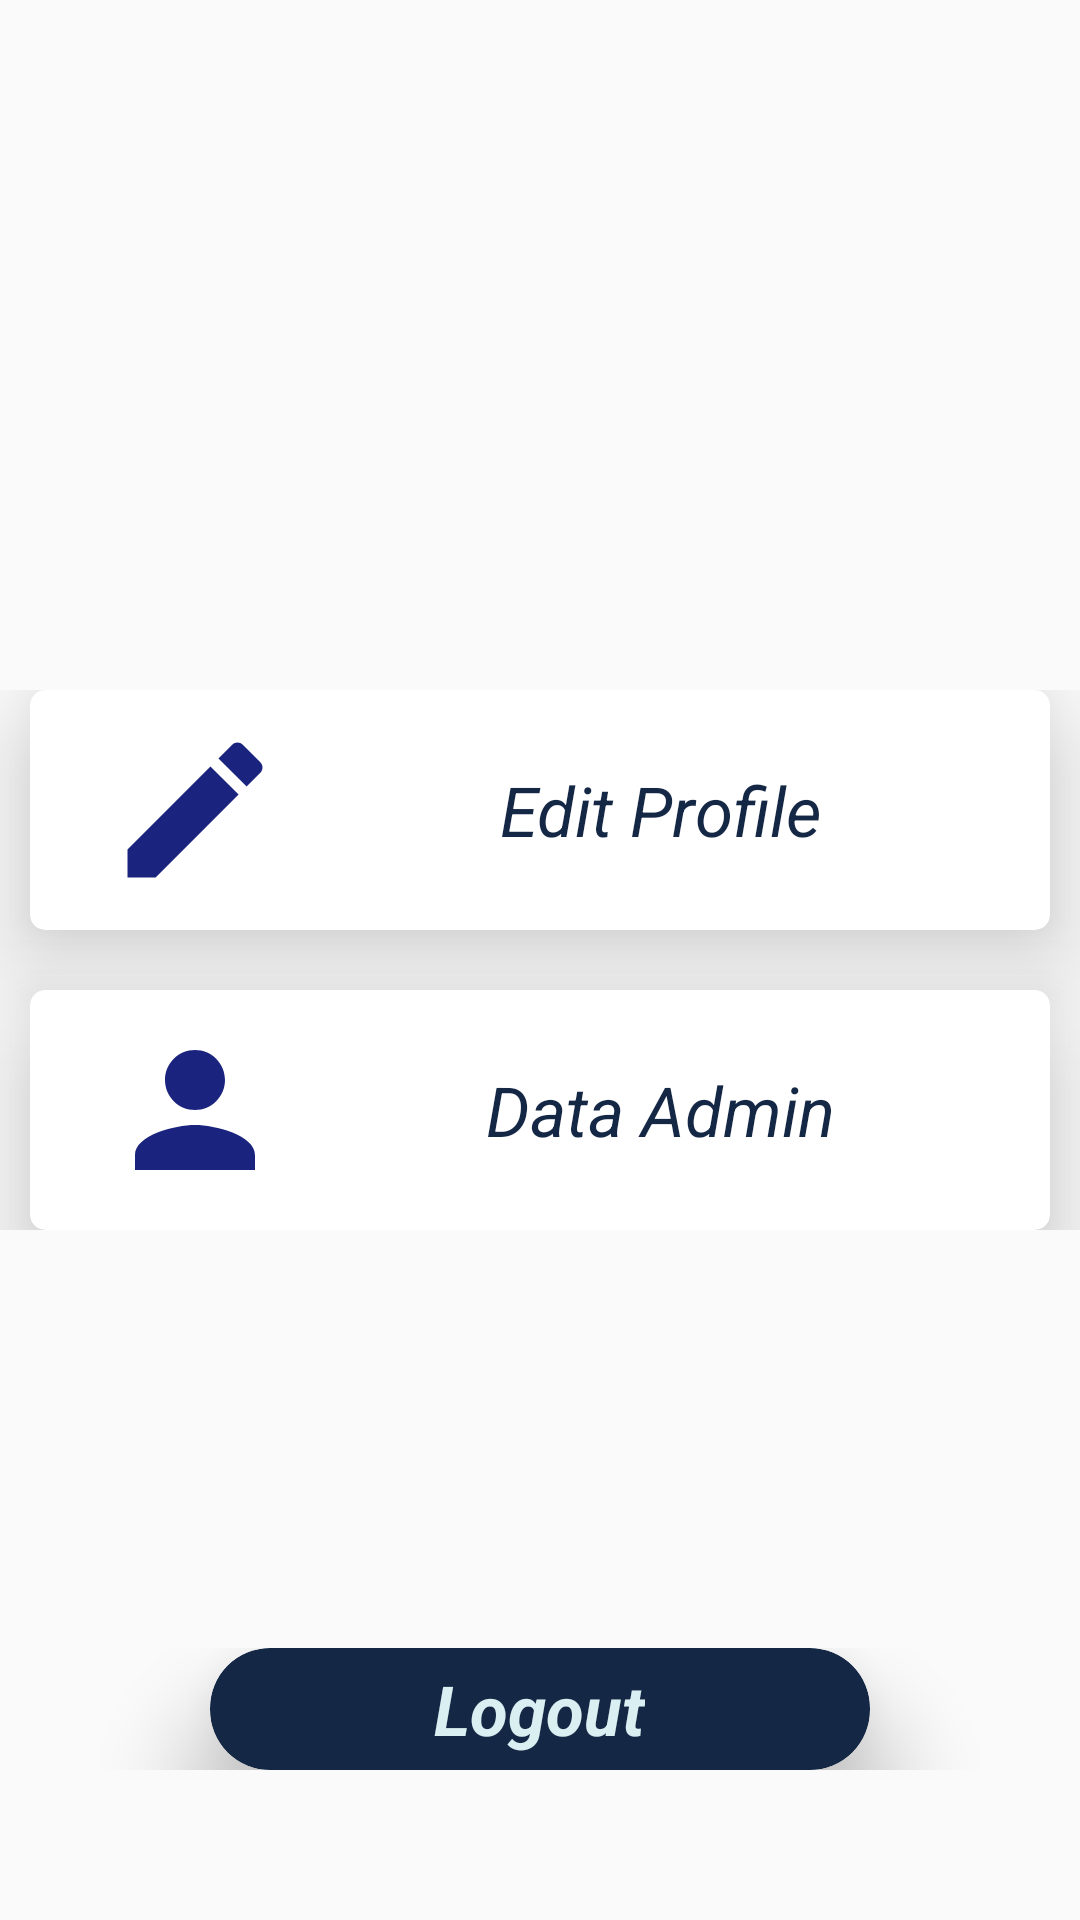

Screen size 1080×1920. Icon name, then its box in pixels as (x1, y1, x2, y2):
person: (135, 1050, 255, 1170)
